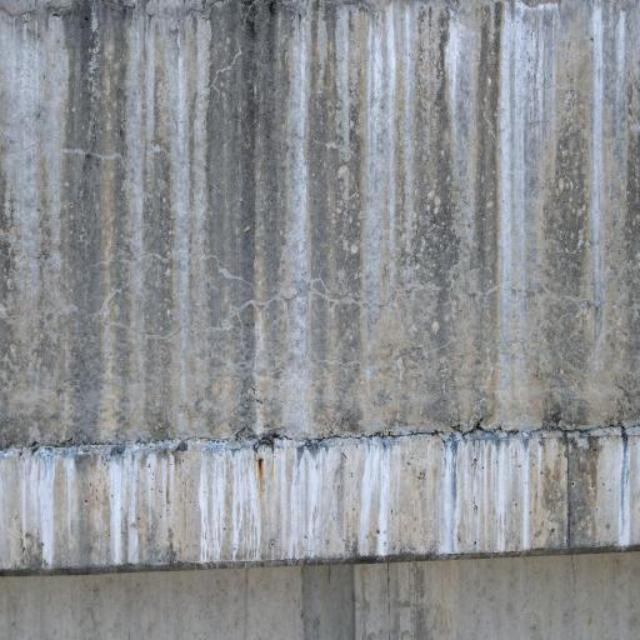D01: (286, 6, 313, 425), (590, 2, 605, 385), (358, 438, 397, 557), (598, 430, 633, 549), (110, 450, 141, 565)
